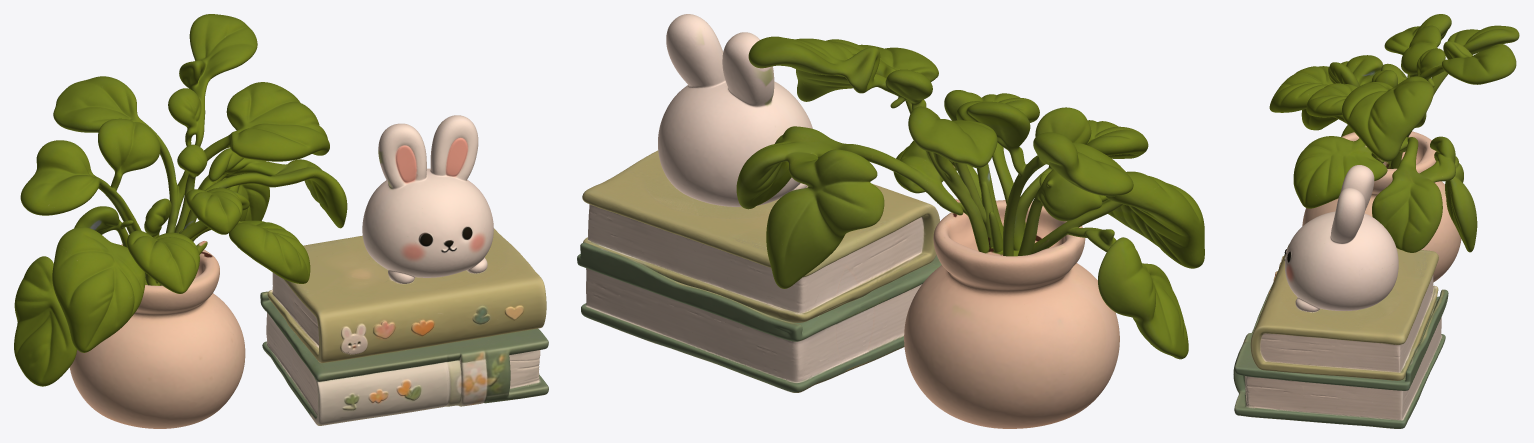
File: plant-books.glb
3 views of the same model, side by side, from view 1: azimuth 30°, elevation 25°; view 2: azimuth 150°, elevation 25°; view 3: azimuth 270°, elevation 25° (orthographic). The views are drawn at different scales.
Size of the model in its own units: 1.9 by 1.21 by 1.09.
Materials: 1 (1 with a texture image).
